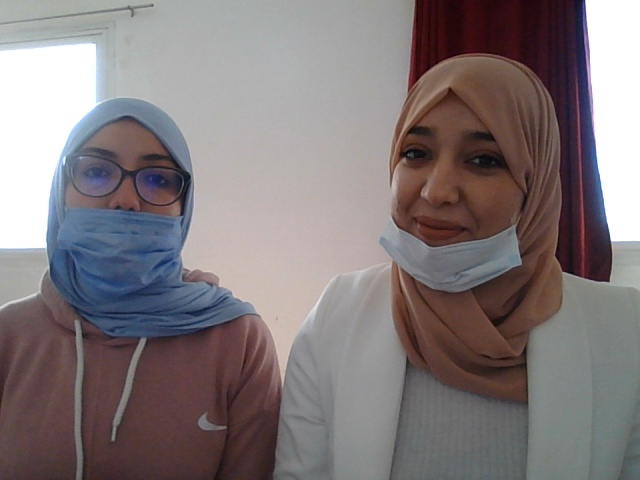mask_weared_incorrect: (377, 61, 539, 297), (50, 98, 210, 297)
